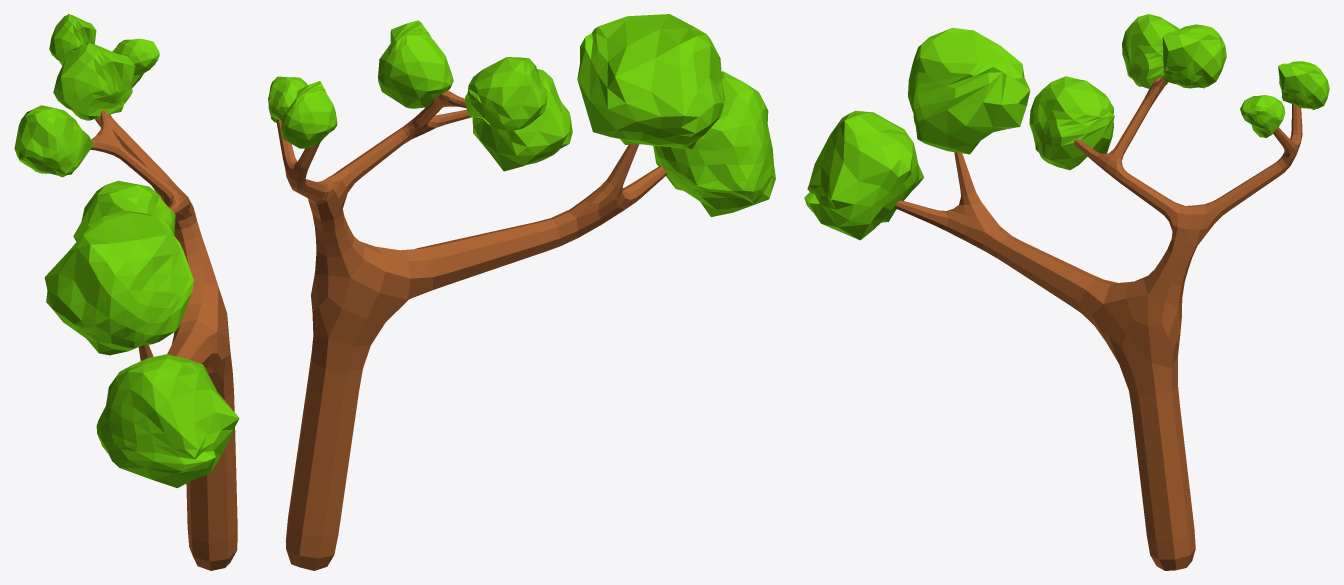
Rendered from m_Tree3.fbx.
The picture shows the model from 3 angles, left to right: view 1: azimuth 30°, elevation 25°; view 2: azimuth 150°, elevation 25°; view 3: azimuth 270°, elevation 25°; orthographic projection. The views are drawn at different scales.
Visible parts, largest first — view 1: Leaves.001, Tree, Leaves, Leaves.004, Leaves.003, Leaves.002, Leaves.005, Leaves.006; view 2: Tree, Leaves.001, Leaves, Leaves.004, Leaves.003, Leaves.002, Leaves.005, Leaves.006; view 3: Tree, Leaves.001, Leaves, Leaves.002, Leaves.004, Leaves.003, Leaves.005, Leaves.006.
Boxes of the visible parts, x1=… form: Leaves.001: x1=44, y1=210, x2=193, y2=355; Tree: x1=90, y1=109, x2=237, y2=570; Leaves: x1=96, y1=354, x2=239, y2=488; Leaves.004: x1=53, y1=42, x2=134, y2=120; Leaves.003: x1=14, y1=105, x2=93, y2=177; Leaves.002: x1=73, y1=180, x2=175, y2=241; Leaves.005: x1=49, y1=14, x2=96, y2=65; Leaves.006: x1=112, y1=38, x2=159, y2=87; Tree: x1=276, y1=90, x2=667, y2=570; Leaves.001: x1=577, y1=14, x2=724, y2=149; Leaves: x1=653, y1=71, x2=775, y2=216; Leaves.004: x1=378, y1=20, x2=453, y2=108; Leaves.003: x1=465, y1=57, x2=547, y2=131; Leaves.002: x1=472, y1=69, x2=572, y2=171; Leaves.005: x1=281, y1=81, x2=337, y2=148; Leaves.006: x1=268, y1=76, x2=307, y2=123; Tree: x1=894, y1=76, x2=1302, y2=570; Leaves.001: x1=908, y1=27, x2=1030, y2=154; Leaves: x1=804, y1=110, x2=924, y2=240; Leaves.002: x1=1029, y1=76, x2=1114, y2=170; Leaves.004: x1=1162, y1=24, x2=1226, y2=88; Leaves.003: x1=1122, y1=14, x2=1179, y2=88; Leaves.005: x1=1278, y1=61, x2=1329, y2=109; Leaves.006: x1=1240, y1=95, x2=1285, y2=137.
Size of the model in its own units: 301 by 535 by 514.
